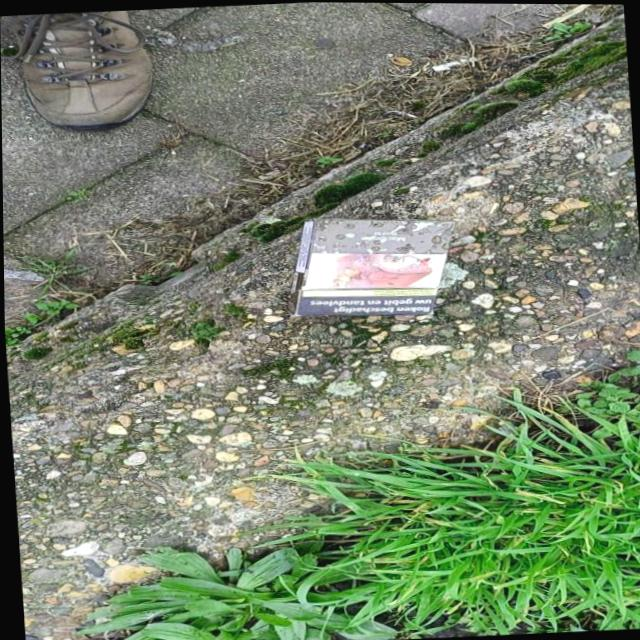Paper: (276, 209, 463, 322)
